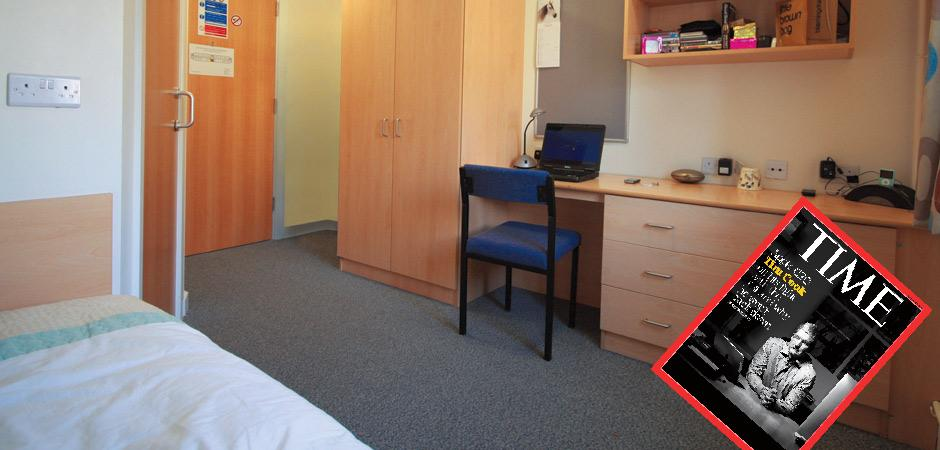times: (650, 192, 932, 450)
